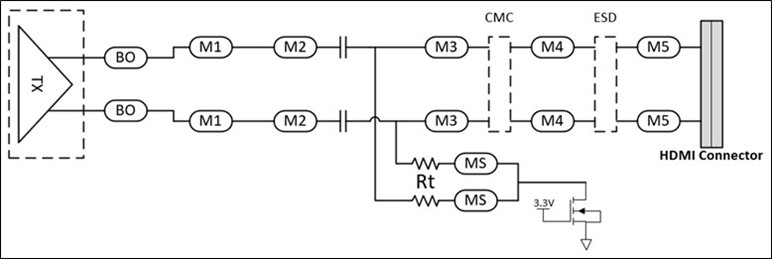capacitor: (332, 31, 354, 64), (333, 107, 352, 135)
dotted_rectangle: (1, 1, 90, 161), (588, 33, 624, 137), (485, 31, 515, 138)
oval: (629, 30, 686, 61), (527, 31, 578, 61), (423, 105, 471, 136), (634, 105, 682, 136), (187, 32, 239, 60), (417, 35, 473, 61), (188, 106, 234, 137), (100, 44, 150, 72), (268, 103, 316, 131), (271, 33, 317, 62), (452, 186, 499, 214), (526, 108, 577, 133), (100, 97, 151, 121), (453, 150, 500, 176)
rectangle: (698, 16, 732, 150)
resistor: (408, 154, 444, 172), (410, 192, 443, 210)
transistor: (530, 195, 613, 253)
triangle: (11, 20, 78, 147)
